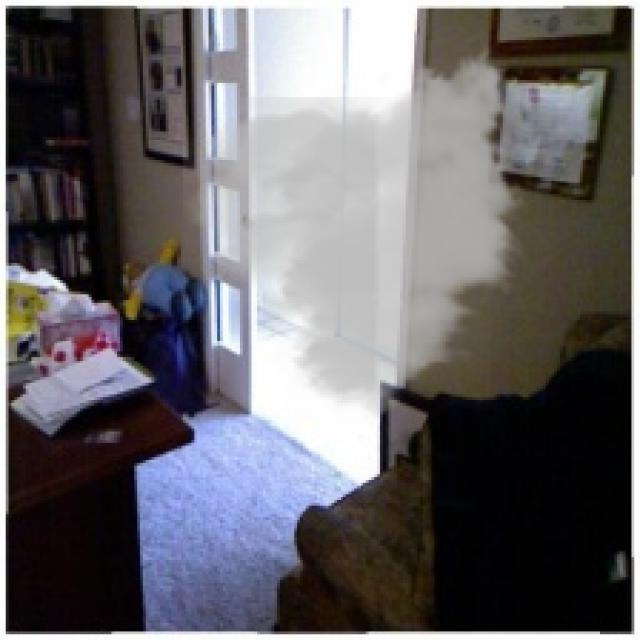Smoke: (182, 37, 528, 429)
